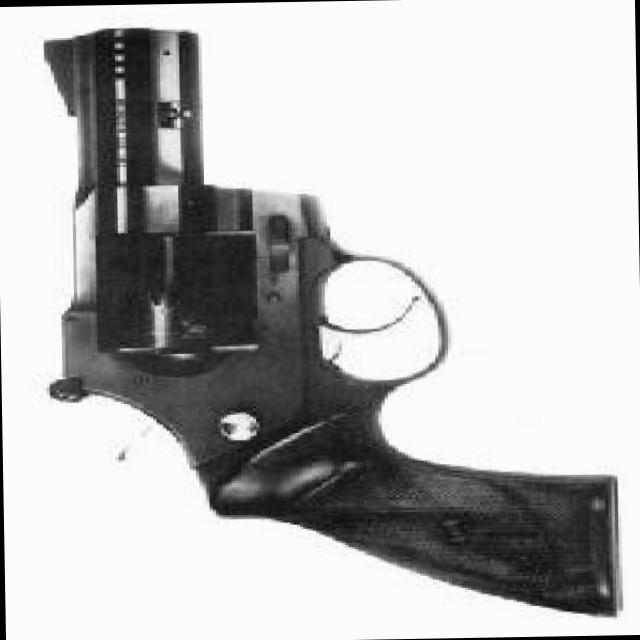handgun: (33, 17, 620, 632)
